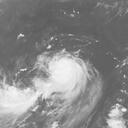cyclone: (39, 51, 88, 102)
